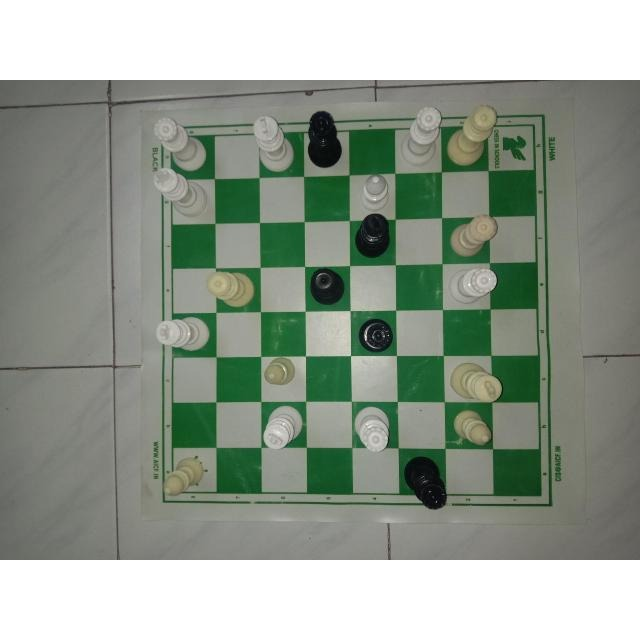black-king: (352, 214, 392, 258)
black-queen: (401, 453, 447, 511), (305, 106, 345, 170), (305, 266, 346, 308), (359, 317, 395, 355)
white-bishop: (160, 452, 207, 500), (450, 406, 495, 448), (358, 172, 393, 213), (261, 354, 297, 386)
white-king: (150, 165, 208, 217), (249, 112, 295, 171), (447, 359, 505, 403), (154, 313, 213, 355), (261, 405, 305, 455)
white-queen: (446, 102, 500, 168), (152, 113, 206, 170), (399, 103, 443, 164), (350, 400, 394, 456), (444, 214, 499, 258), (444, 265, 502, 305), (204, 267, 258, 307)
